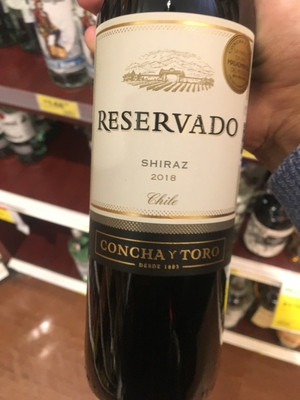reservado shiraz: (86, 20, 255, 380)
